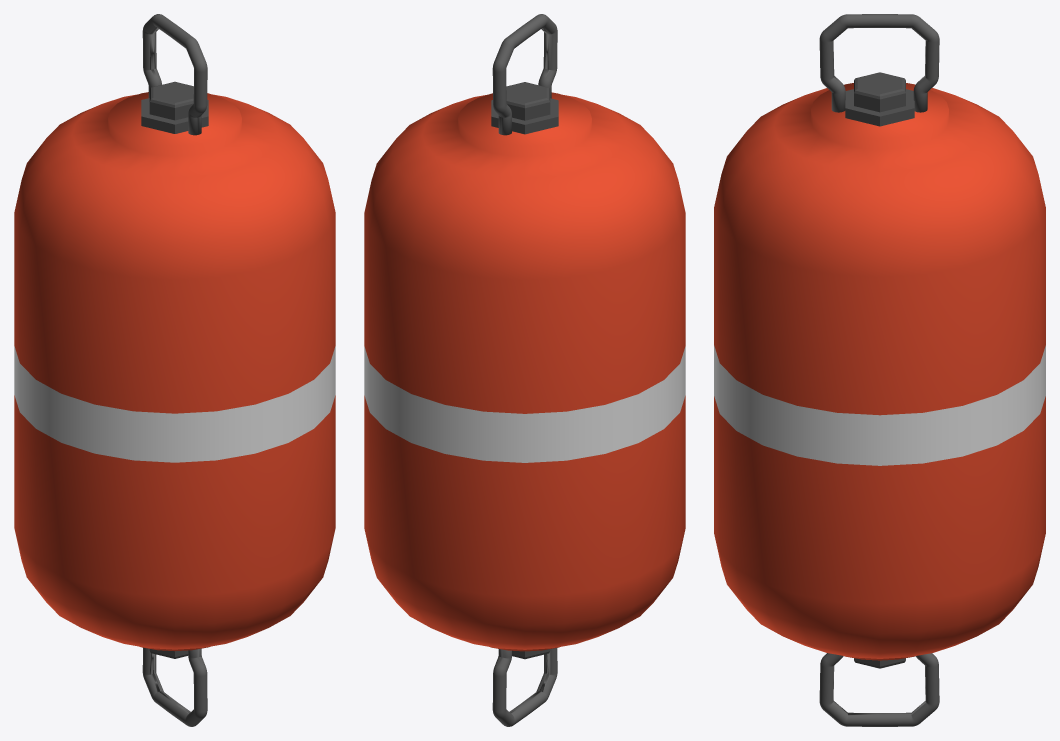
File: Samandira.fbx
3 renders of one model, left to right at view 1: azimuth 30°, elevation 25°; view 2: azimuth 150°, elevation 25°; view 3: azimuth 270°, elevation 25°, orthographic. The views are drawn at different scales.
Parts seen in each view (by area): view 1: Buoy; view 2: Buoy; view 3: Buoy.
Part boxes in pixels (x1=…): Buoy: x1=14, y1=14, x2=335, y2=726; Buoy: x1=364, y1=14, x2=685, y2=726; Buoy: x1=714, y1=14, x2=1045, y2=726.
Bounding box in the file's own units: 106 × 251 × 106.
